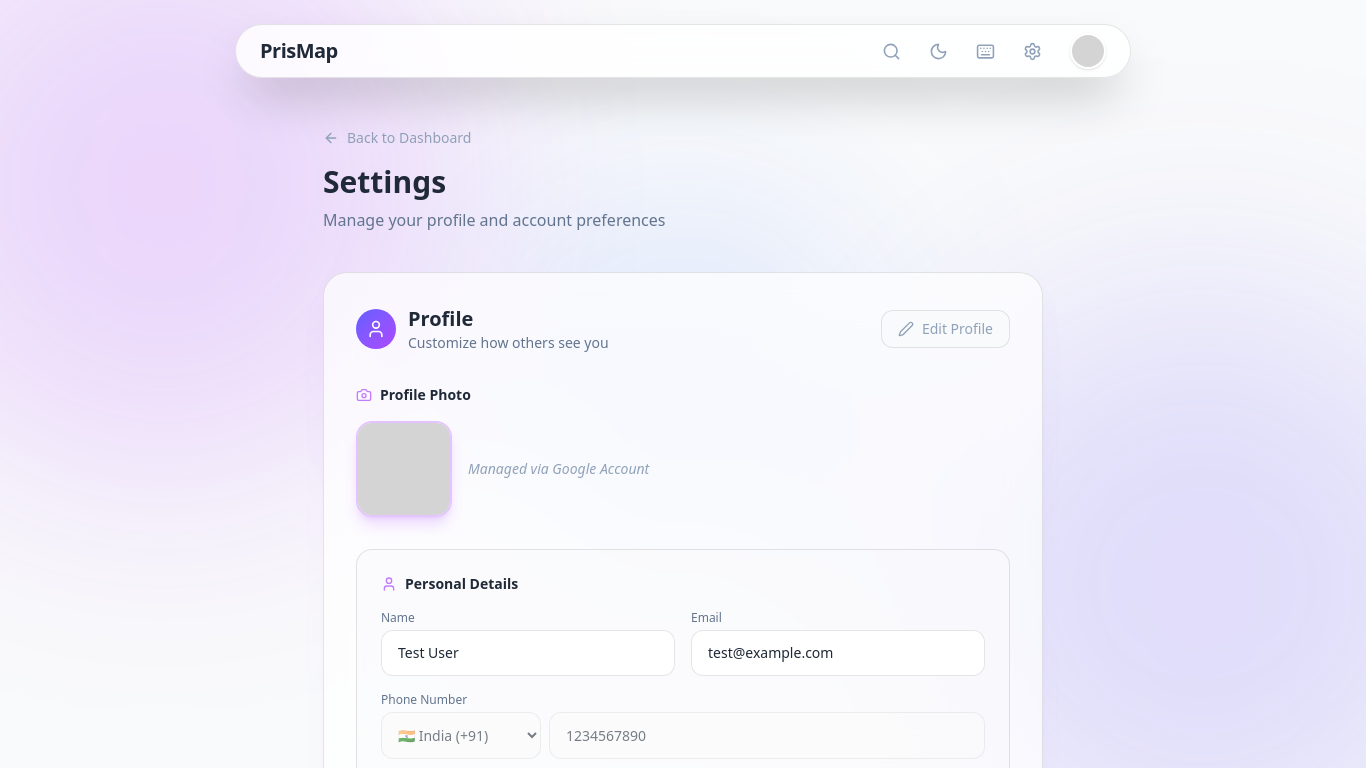
Test: Settings Page Integration Tests › toggles to editing mode when Edit Profile is clicked
This screenshot has width=1366, height=768.
Click the button "Edit Profile": (945, 329) [881,310,1010,348]
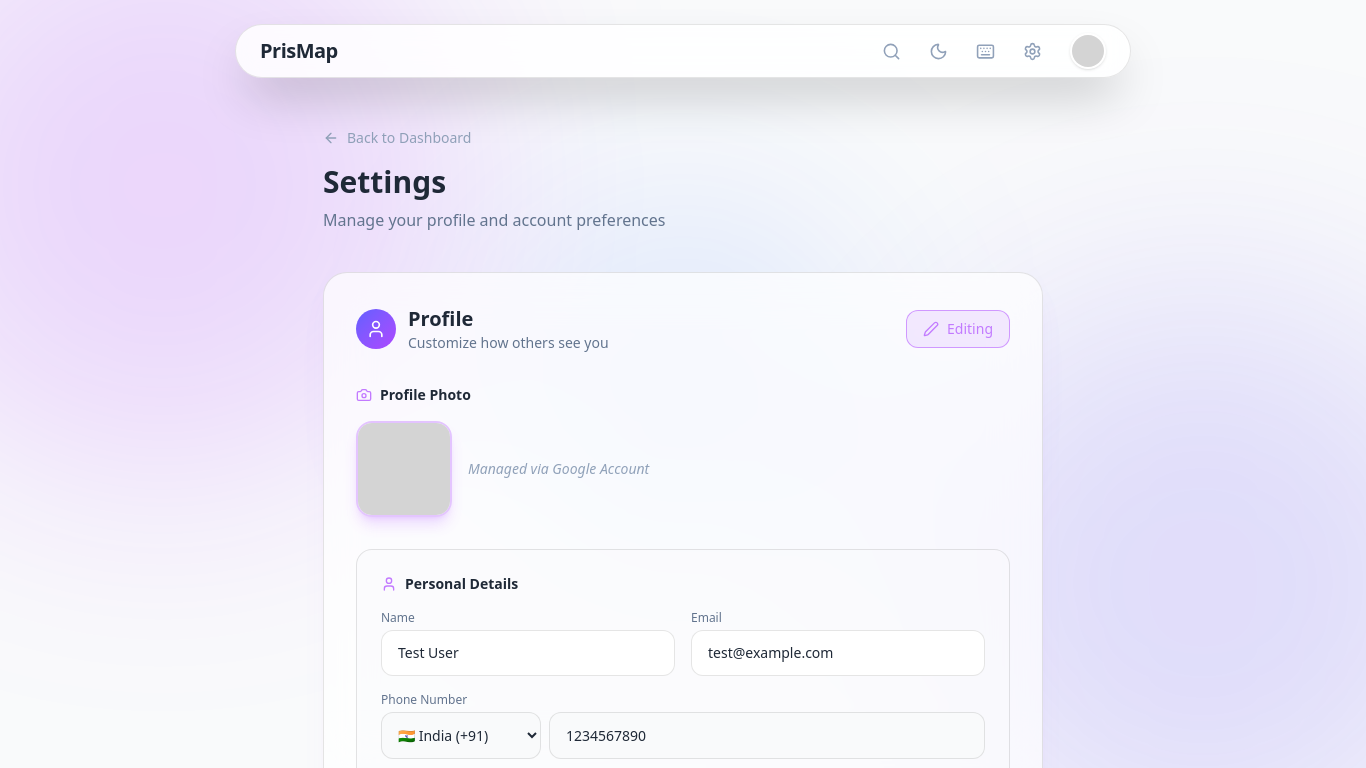
Result: the text "Editing" is shown at [947,319,993,339]
